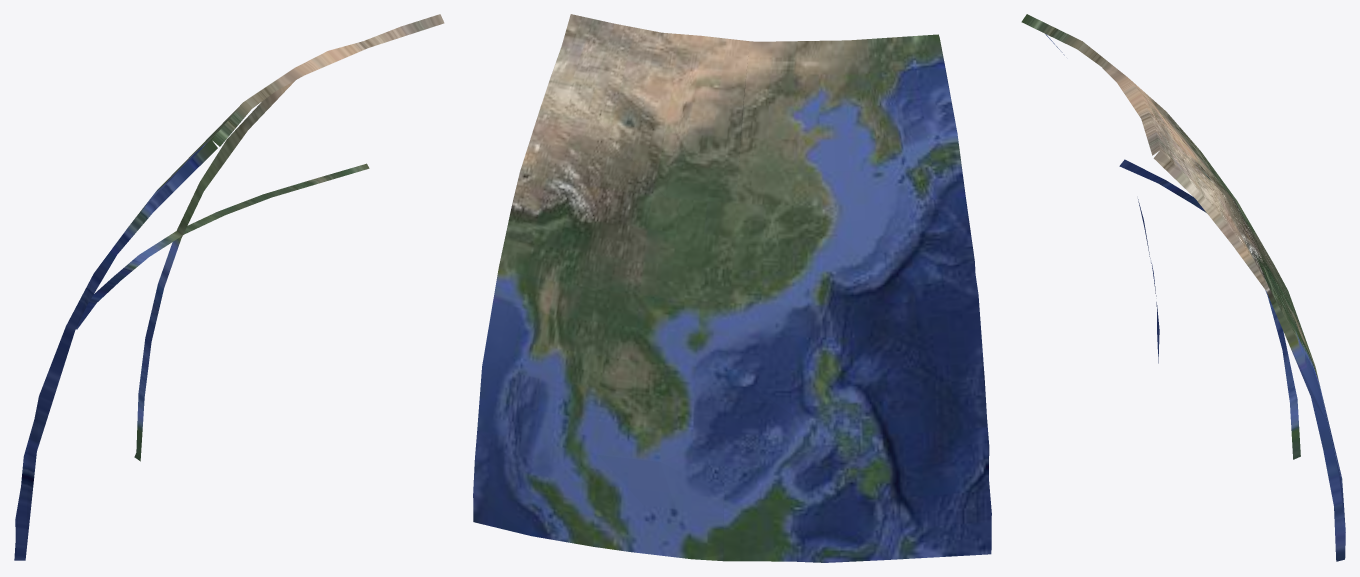
3 views of the same model, side by side, from view 1: azimuth 30°, elevation 25°; view 2: azimuth 150°, elevation 25°; view 3: azimuth 270°, elevation 25° (orthographic). The views are drawn at different scales.
Size of the model in its own units: 4589565 by 4568222 by 3246339.
Materials: 1 (1 with a texture image).
